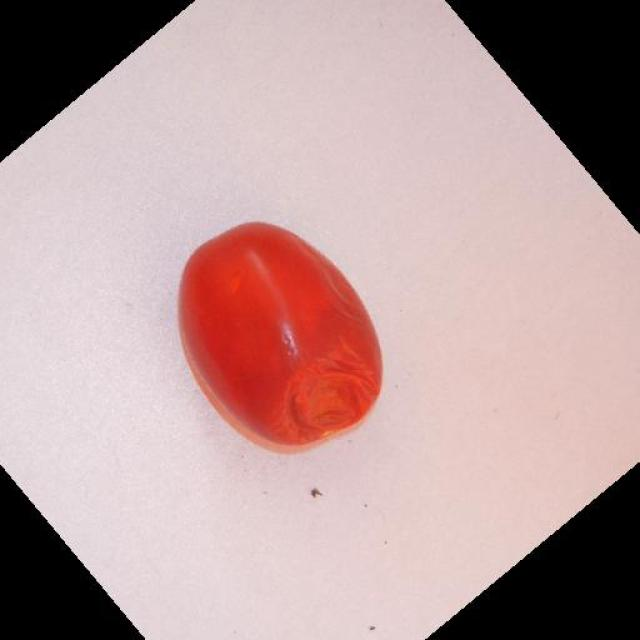Stale_tomato: (179, 221, 396, 461)
